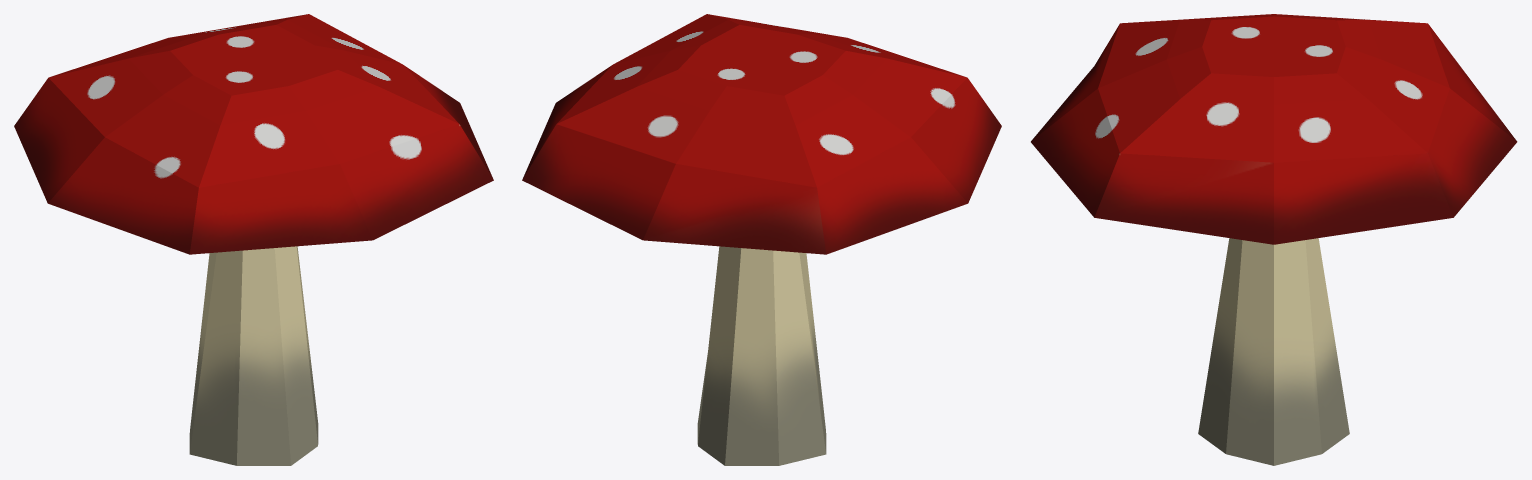
Rendered from Mushroom-2.fbx.
The picture shows the model from 3 angles, left to right: view 1: azimuth 30°, elevation 25°; view 2: azimuth 150°, elevation 25°; view 3: azimuth 270°, elevation 25°; orthographic projection. The views are drawn at different scales.
Visible parts, largest first — view 1: Mushroom-2; view 2: Mushroom-2; view 3: Mushroom-2.
Boxes of the visible parts, <box> form: Mushroom-2: <box>14,14,493,465</box>; Mushroom-2: <box>522,14,1001,465</box>; Mushroom-2: <box>1031,14,1517,465</box>.
Size of the model in its own units: 1535 by 1346 by 1535.
